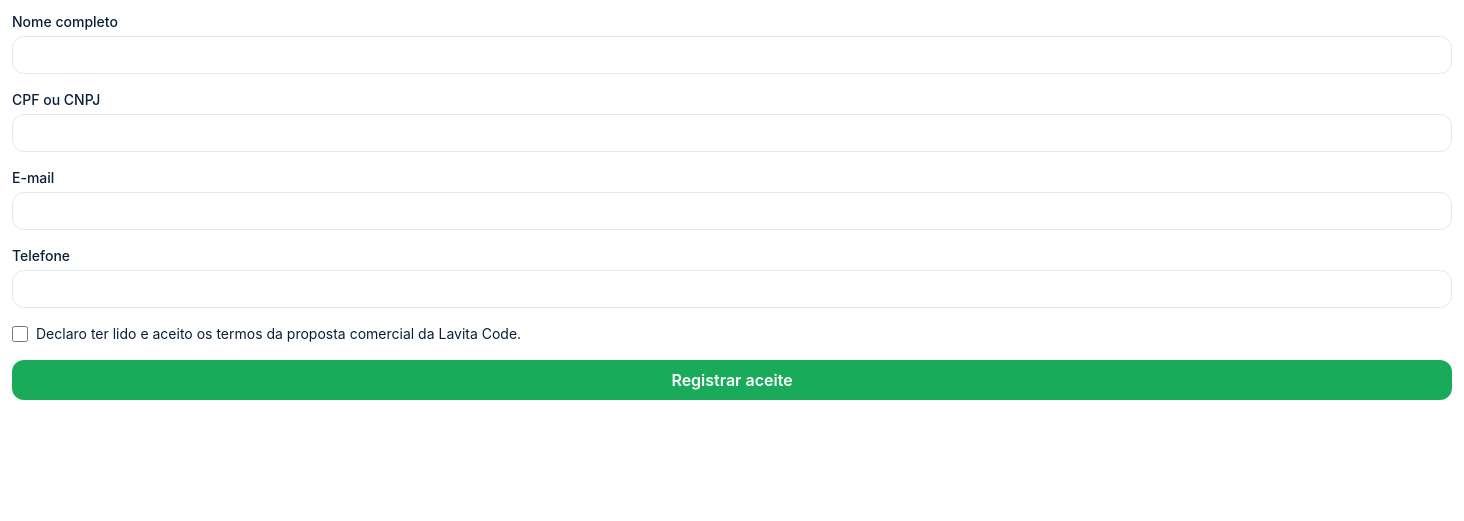
Scenario: AceiteForm — validação › submissão com campos vazios mostra erros por campo e marca aria-invalid
Click the button "Registrar aceite".
click(732, 380)  # box [12,360,1452,400]
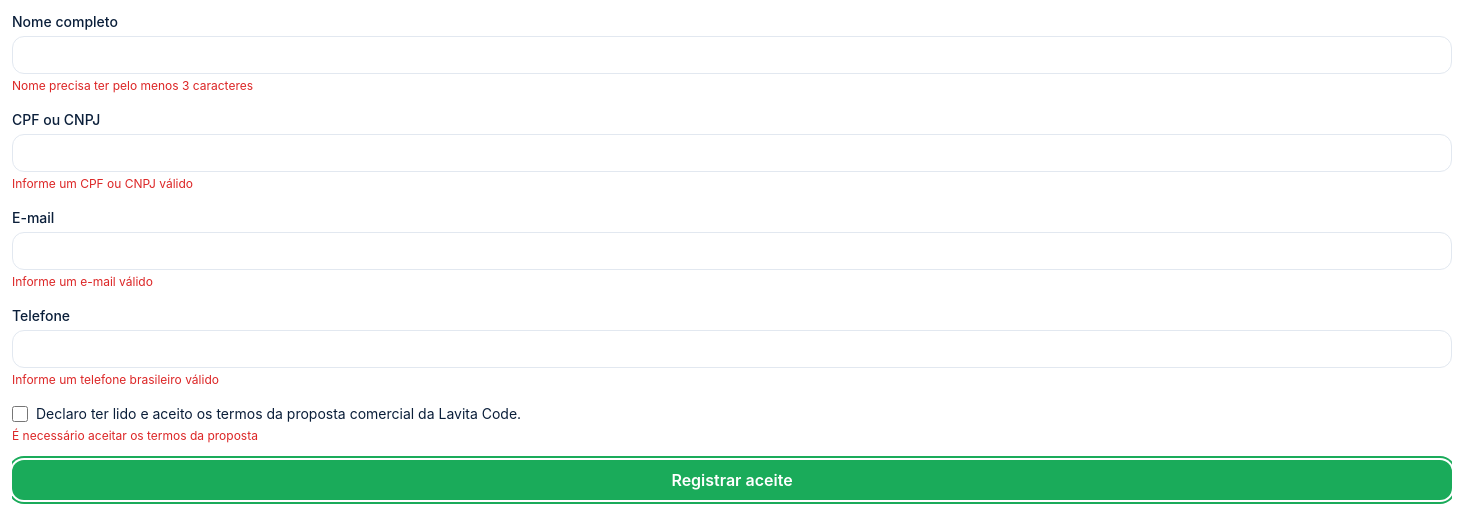
Check: the text "Nome precisa ter pelo menos 3 caracteres" is shown, box [12,78,253,93]
Check: the text "Informe um CPF ou CNPJ válido" is shown, box [12,176,193,191]
Check: the text "Informe um e-mail válido" is shown, box [12,274,153,289]
